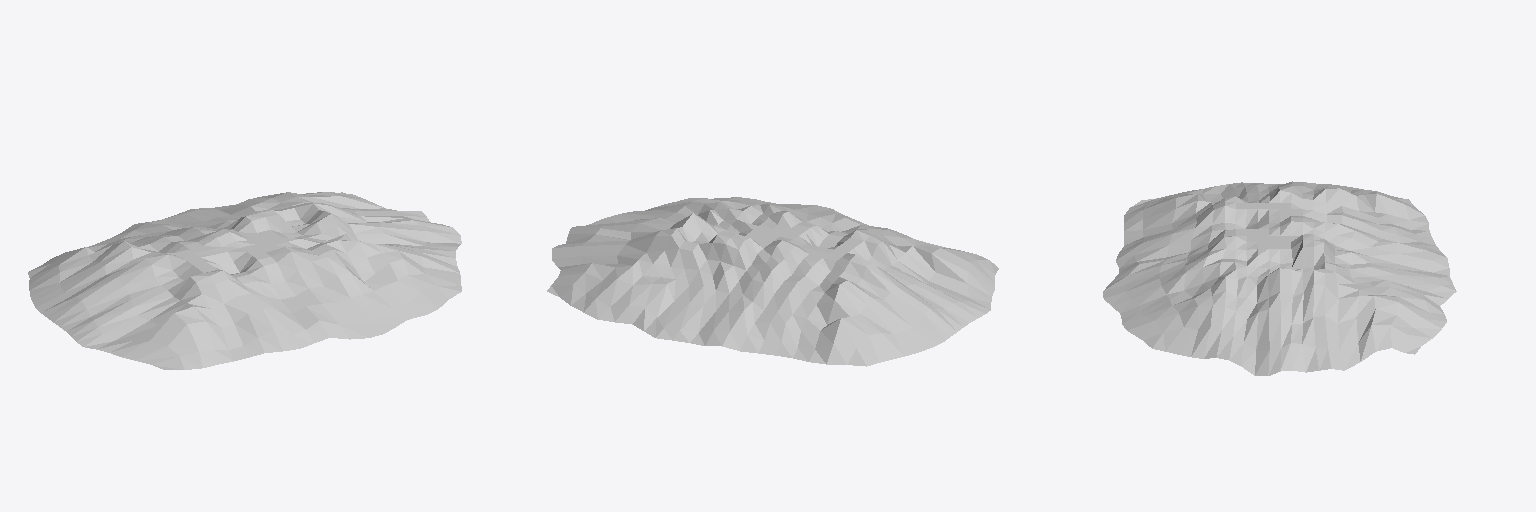
File: DirtGround.obj
3 renders of one model, left to right at view 1: azimuth 30°, elevation 25°; view 2: azimuth 150°, elevation 25°; view 3: azimuth 270°, elevation 25°, orthographic.
Parts seen in each view (by area): view 1: pCube11; view 2: pCube11; view 3: pCube11.
Part boxes in pixels (x1,y1,x2,y2): pCube11: (28,192,461,369); pCube11: (547,197,998,366); pCube11: (1103,181,1456,375).
Bounding box in the file's own units: 3.33 × 0.4124 × 2.57.